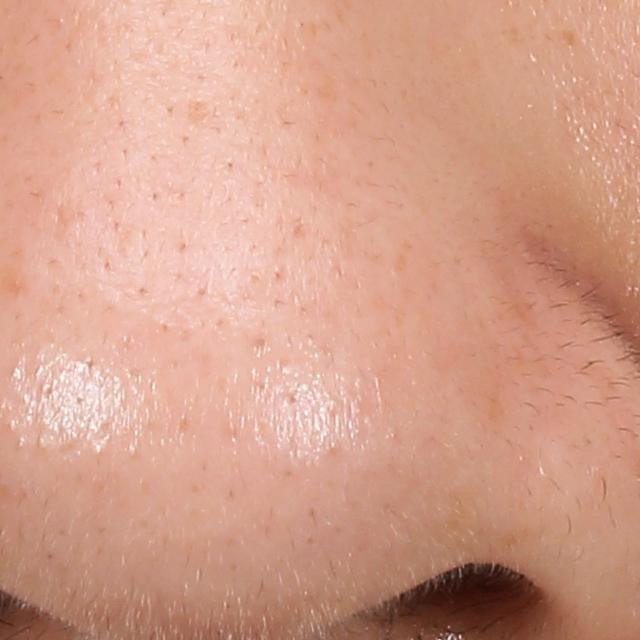melasma: (553, 28, 582, 52)
